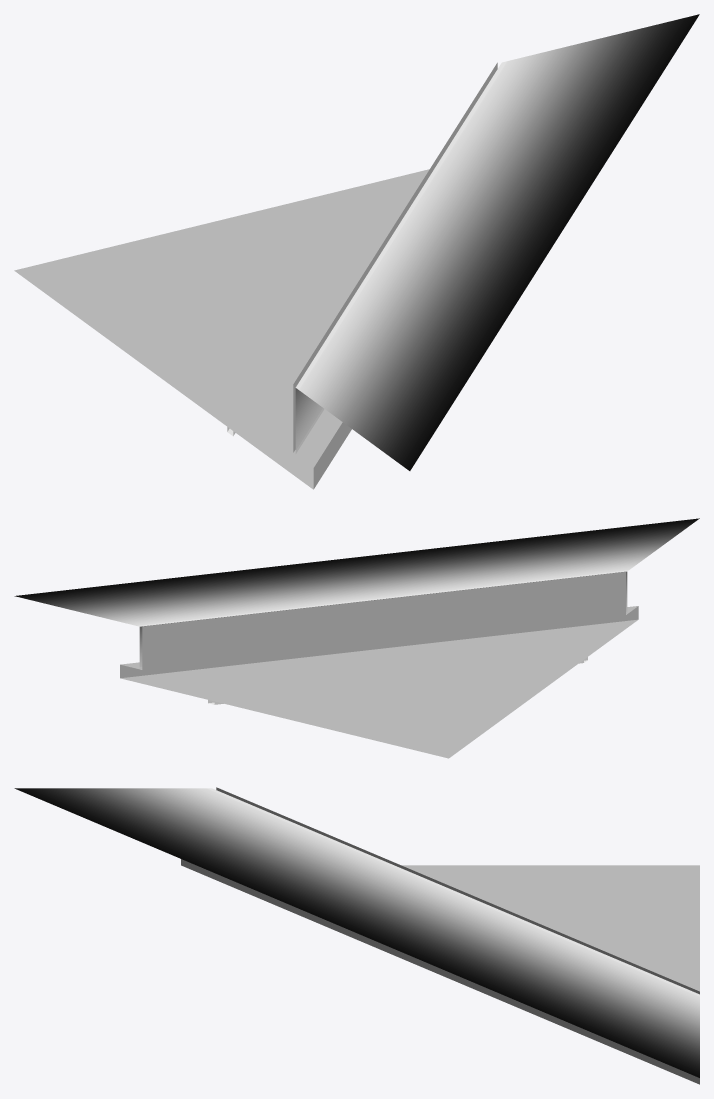
The model's file is Ceiling03_17_45Deg.FBX.
3 renders of one model, top to bottom at view 1: azimuth 30°, elevation 25°; view 2: azimuth 150°, elevation 25°; view 3: azimuth 270°, elevation 25°, orthographic. The views are drawn at different scales.
Parts seen in each view (by area): view 1: Backlight, Ceiling; view 2: Ceiling, Backlight; view 3: Backlight, Ceiling.
Part boxes in pixels (left/top/right/bottom): Backlight: left=295, top=14, right=699, bottom=470; Ceiling: left=14, top=62, right=497, bottom=489; Ceiling: left=120, top=571, right=638, bottom=758; Backlight: left=14, top=518, right=699, bottom=668; Backlight: left=14, top=788, right=699, bottom=1077; Ceiling: left=181, top=787, right=699, bottom=1084.
Size of the model in its own units: 199 by 26.5 by 199.
